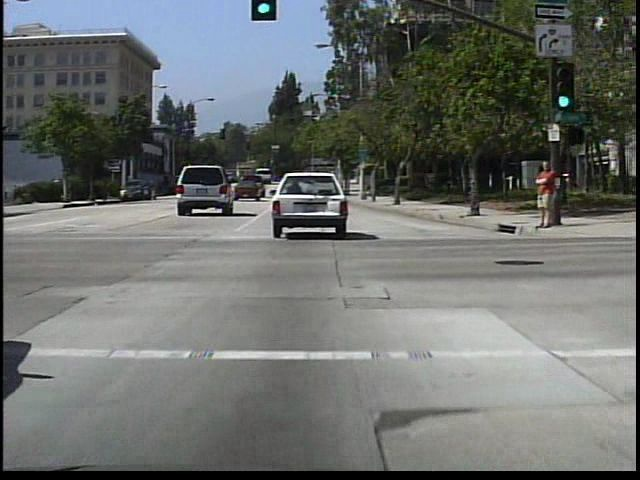person: (532, 158, 559, 233)
